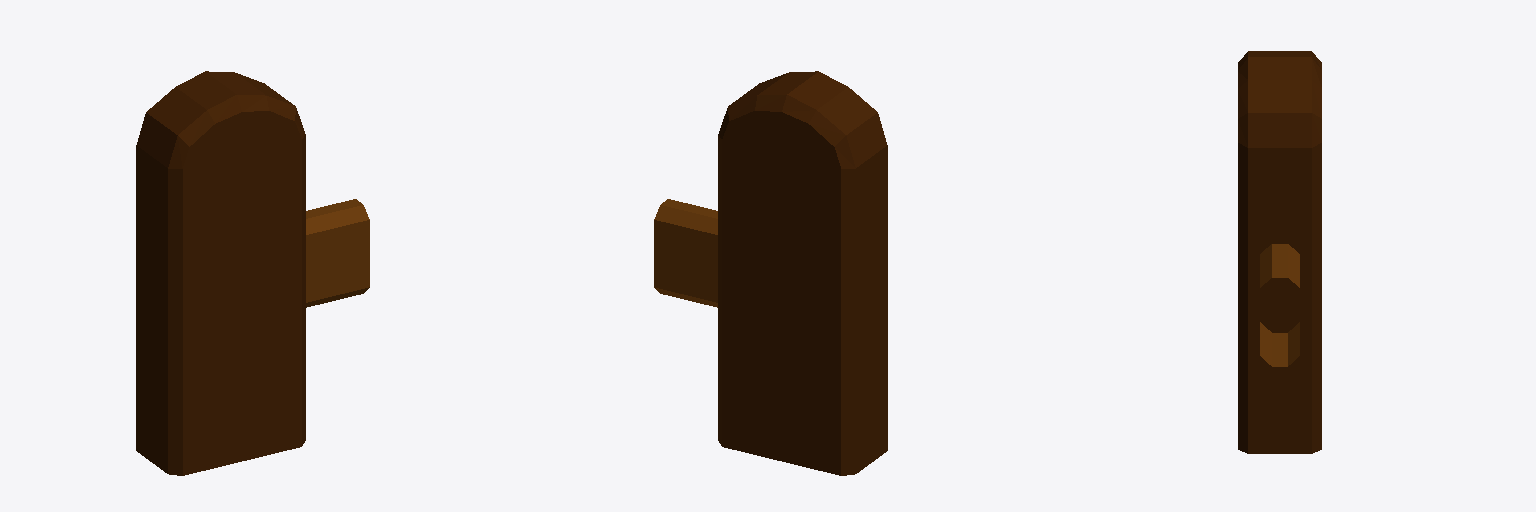
Rendered from Fence_1.obj.
3 views of the same model, side by side, from view 1: azimuth 30°, elevation 25°; view 2: azimuth 150°, elevation 25°; view 3: azimuth 270°, elevation 25° (orthographic).
Parts seen in each view (by area): view 1: Fence_1_Cube.198; view 2: Fence_1_Cube.198; view 3: Fence_1_Cube.198.
Boxes of the visible parts, x1=… form: Fence_1_Cube.198: x1=136, y1=71, x2=369, y2=475; Fence_1_Cube.198: x1=654, y1=71, x2=887, y2=475; Fence_1_Cube.198: x1=1238, y1=51, x2=1321, y2=453.
Bounding box in the file's own units: 0.7482 × 1.25 × 0.2644.